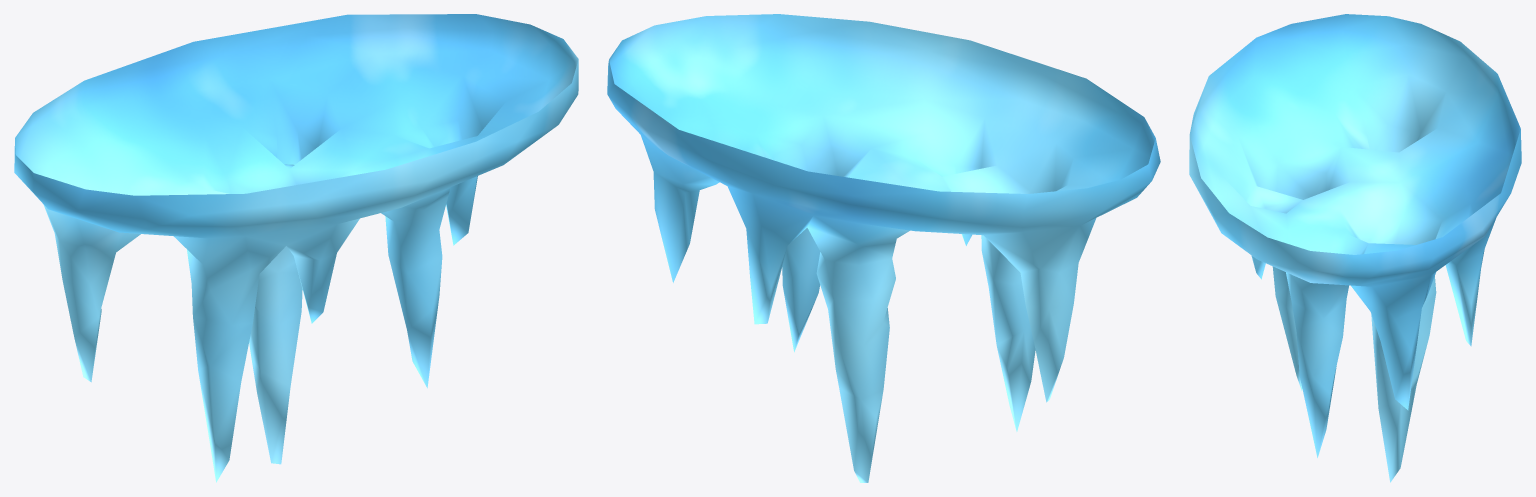
Rendered from SM_Icicle_Cluster_1.glb.
3 renders of one model, left to right at view 1: azimuth 30°, elevation 25°; view 2: azimuth 150°, elevation 25°; view 3: azimuth 270°, elevation 25°, orthographic. The views are drawn at different scales.
Parts seen in each view (by area): view 1: SM_Icicle_Cluster_1; view 2: SM_Icicle_Cluster_1; view 3: SM_Icicle_Cluster_1.
Boxes of the visible parts, left/top/right/bottom form: SM_Icicle_Cluster_1: left=14, top=14, right=578, bottom=482; SM_Icicle_Cluster_1: left=607, top=14, right=1160, bottom=482; SM_Icicle_Cluster_1: left=1189, top=14, right=1521, bottom=482.
Bounding box in the file's own units: 0.9464 × 0.6294 × 0.5474.
Materials: 1 (1 with a texture image).
